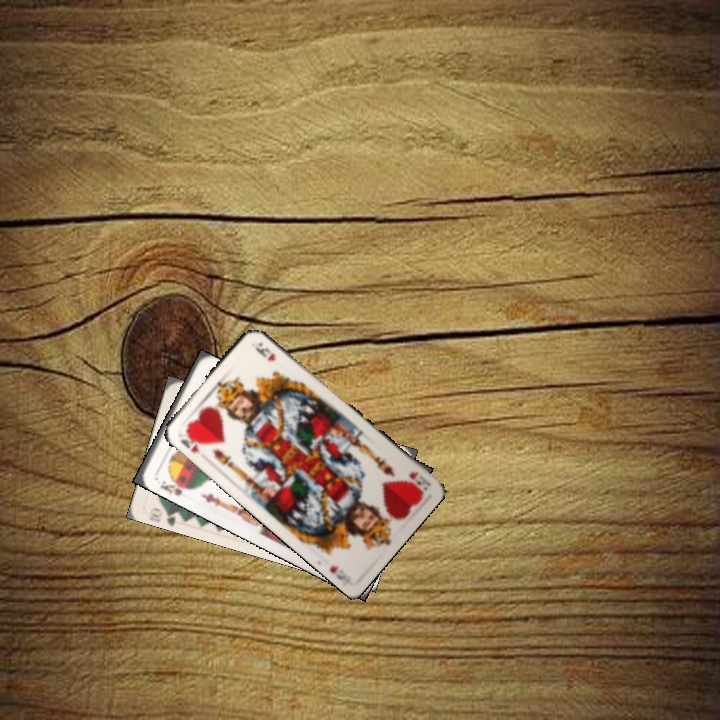G10: (145, 503, 184, 527)
HK: (176, 427, 205, 456), (405, 467, 433, 495)
SK: (156, 473, 192, 498)
